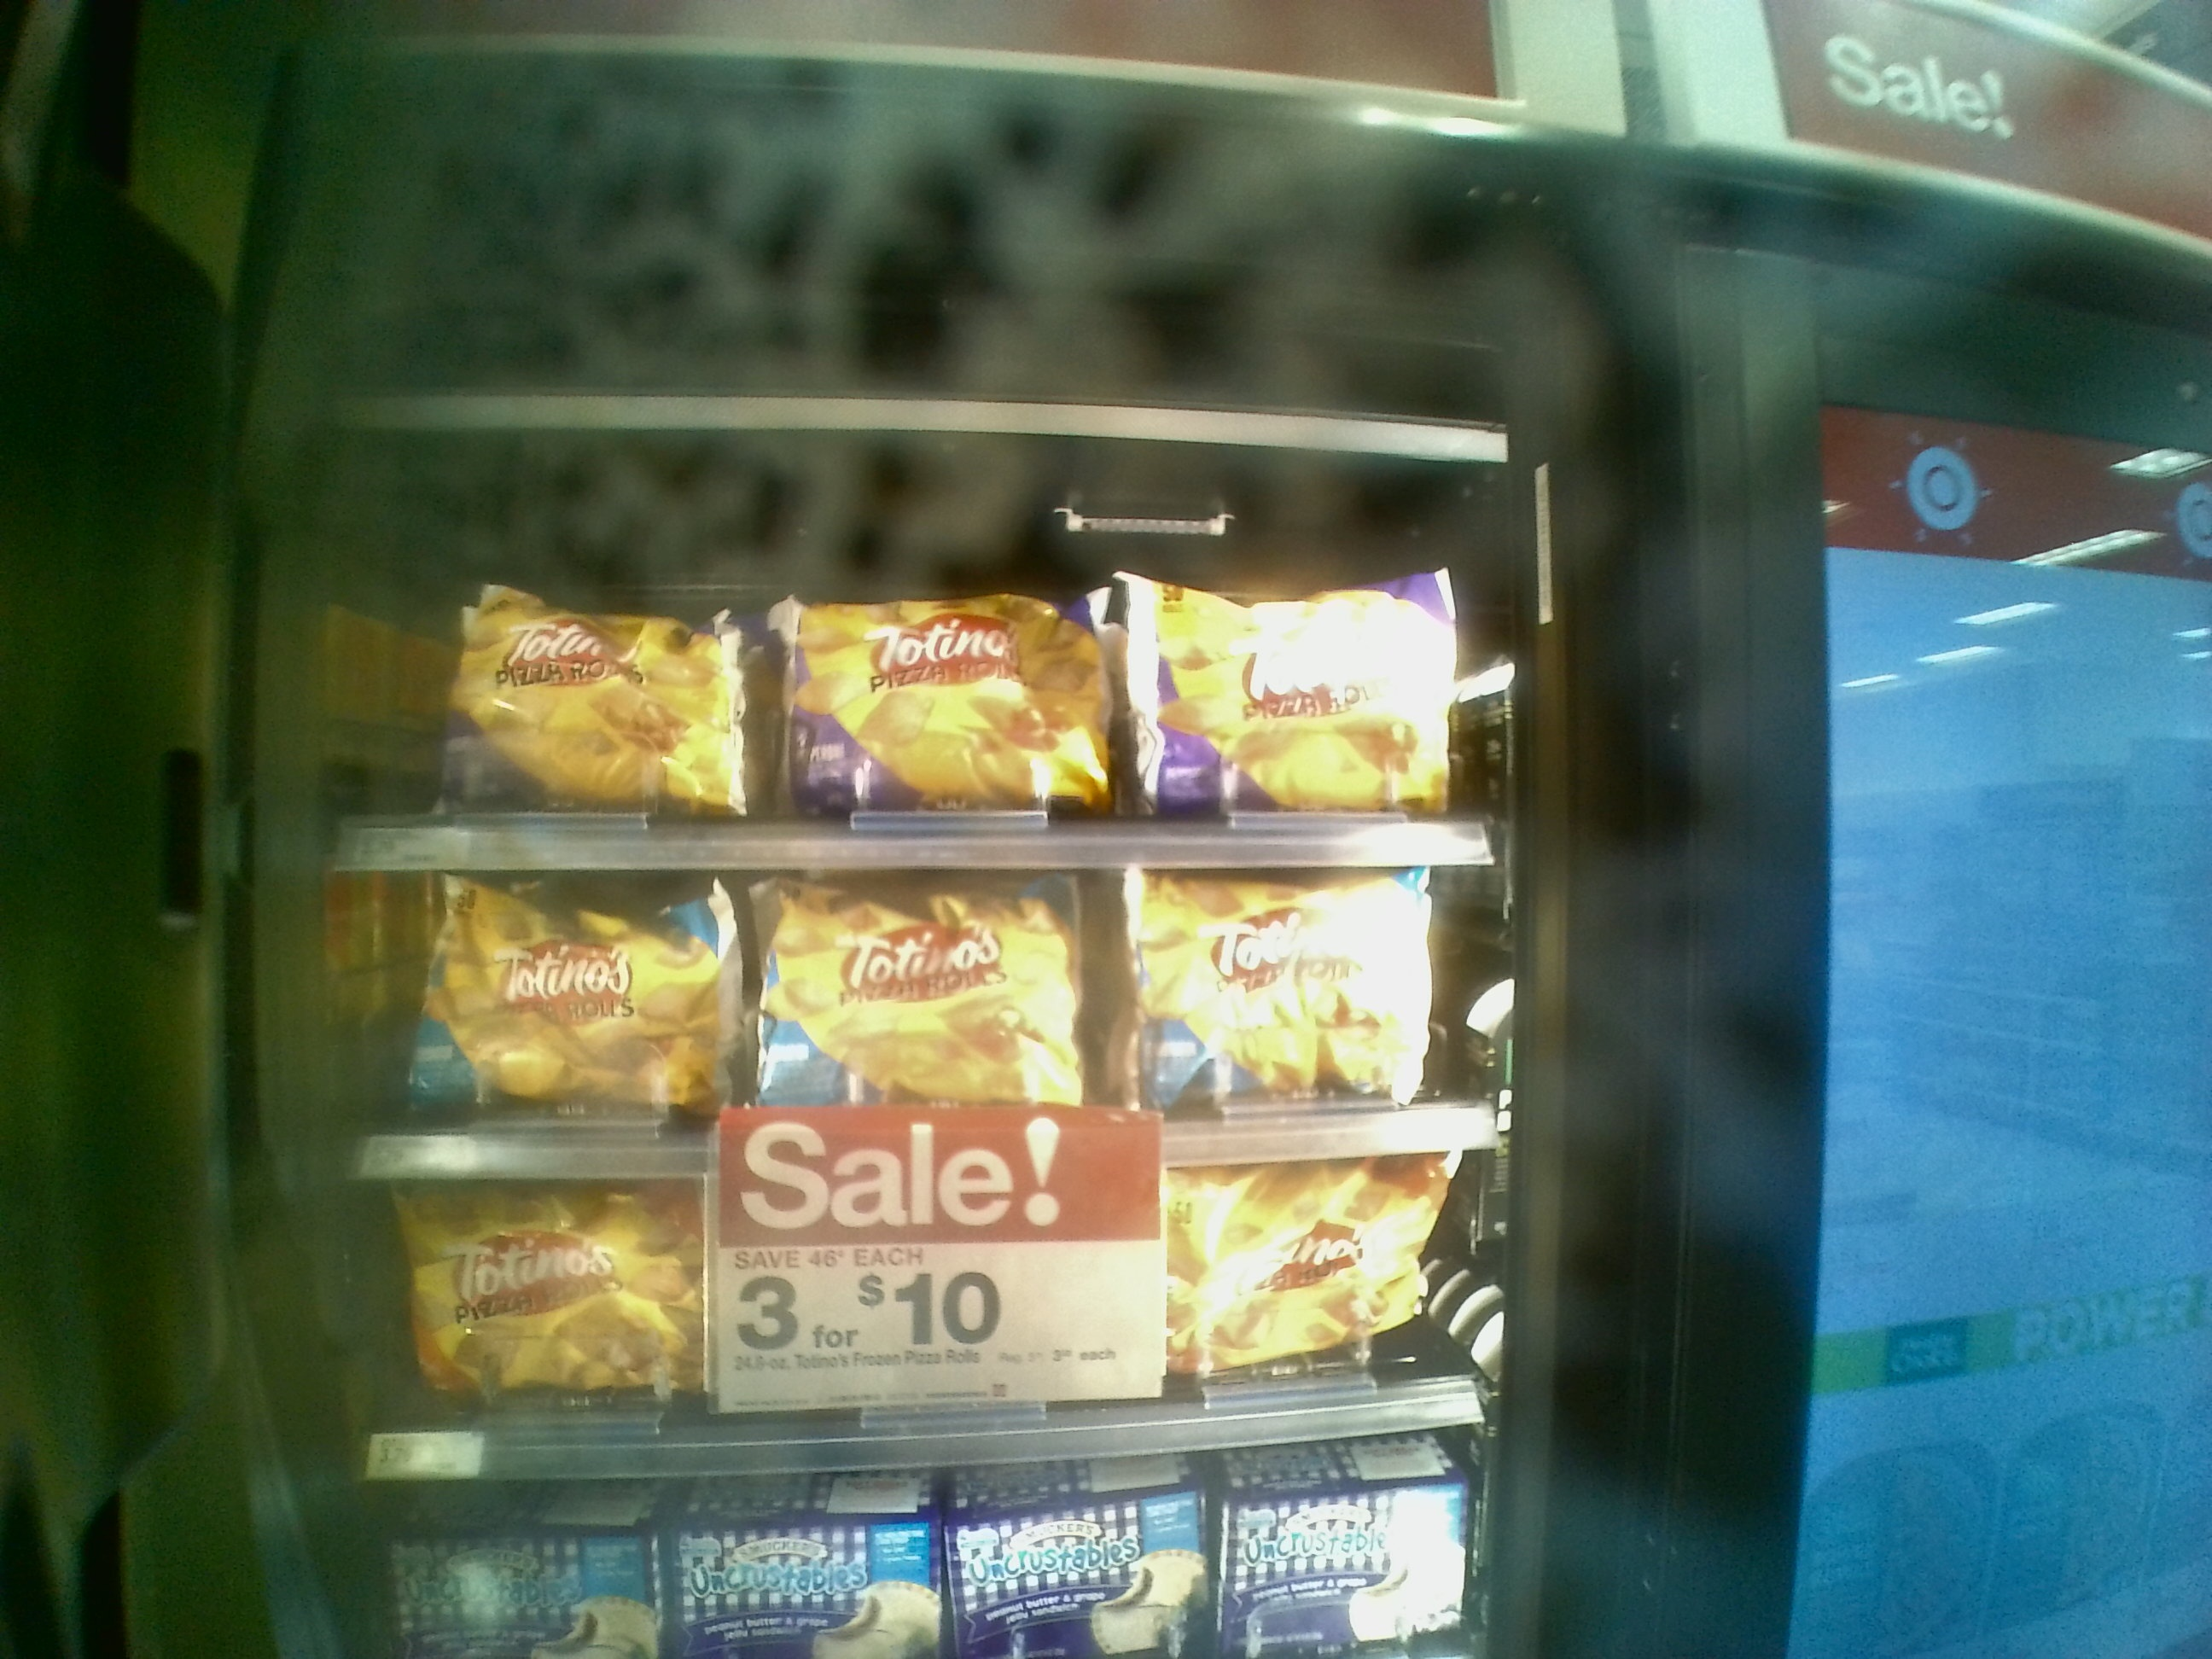shelf: (261, 406, 1498, 861), (273, 859, 1514, 1178), (265, 1141, 1494, 1445)
